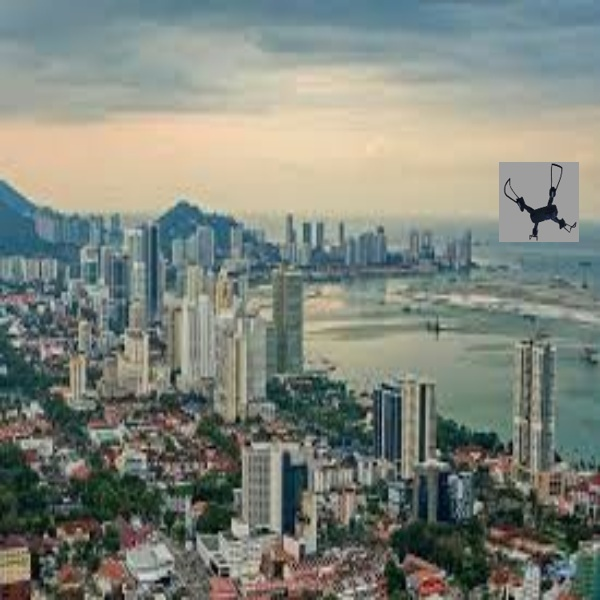drone: (500, 163, 582, 240)
